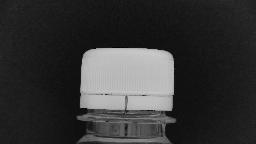Broken Ring: (103, 91, 151, 113)
Loose Cap: (70, 87, 182, 127)
